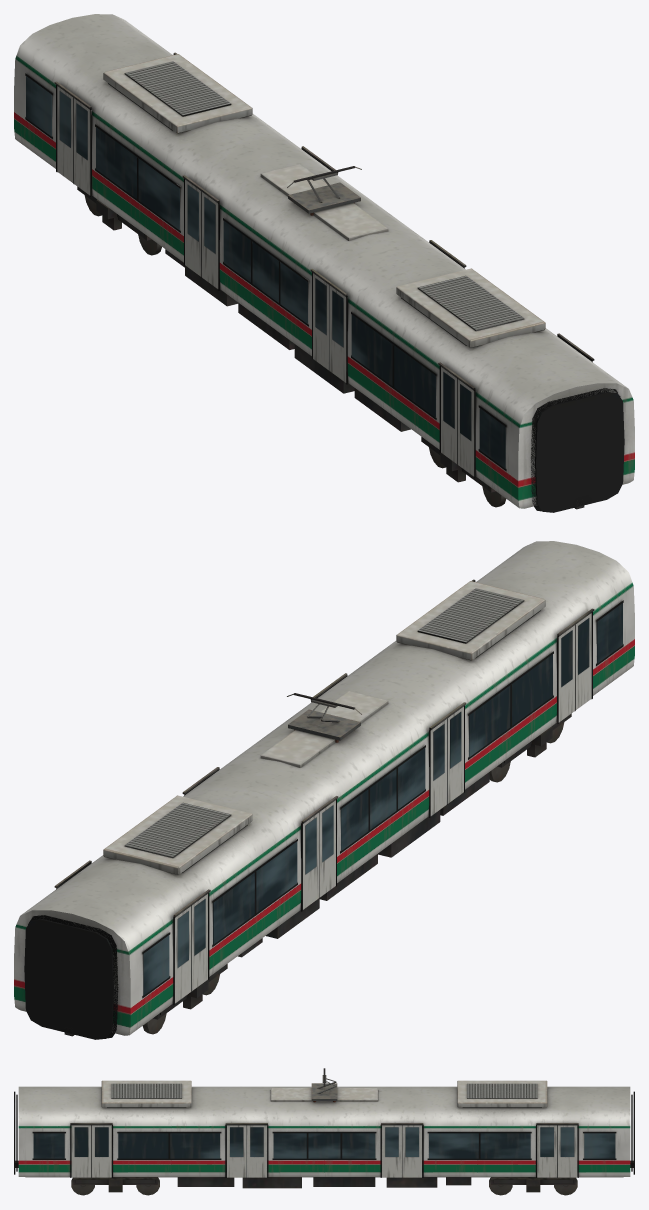
The model's file is metro_train.glb.
3 views of the same model, one above another, from view 1: azimuth 30°, elevation 25°; view 2: azimuth 150°, elevation 25°; view 3: azimuth 270°, elevation 25° (orthographic). The views are drawn at different scales.
Visible parts, largest first — view 1: body, pantograph; view 2: body, pantograph; view 3: body, pantograph.
Part boxes in pixels (<box>): body: <box>14,14,634,512</box>; pantograph: <box>287,166,361,215</box>; body: <box>14,541,634,1039</box>; pantograph: <box>287,693,361,742</box>; body: <box>14,1080,634,1195</box>; pantograph: <box>311,1068,337,1102</box>.
Bounding box in the file's own units: 3 × 4.25 × 22.
Materials: 1 (1 with a texture image).
